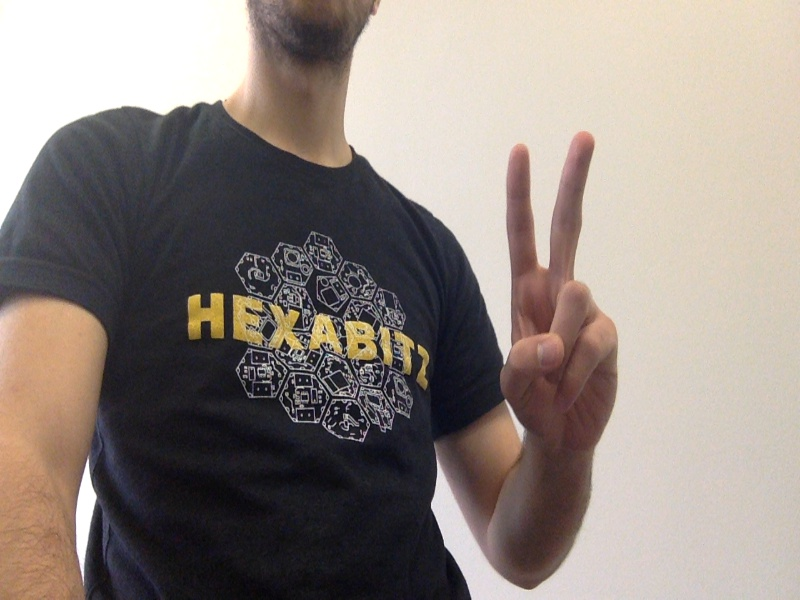2-hand: (504, 133, 619, 449)
